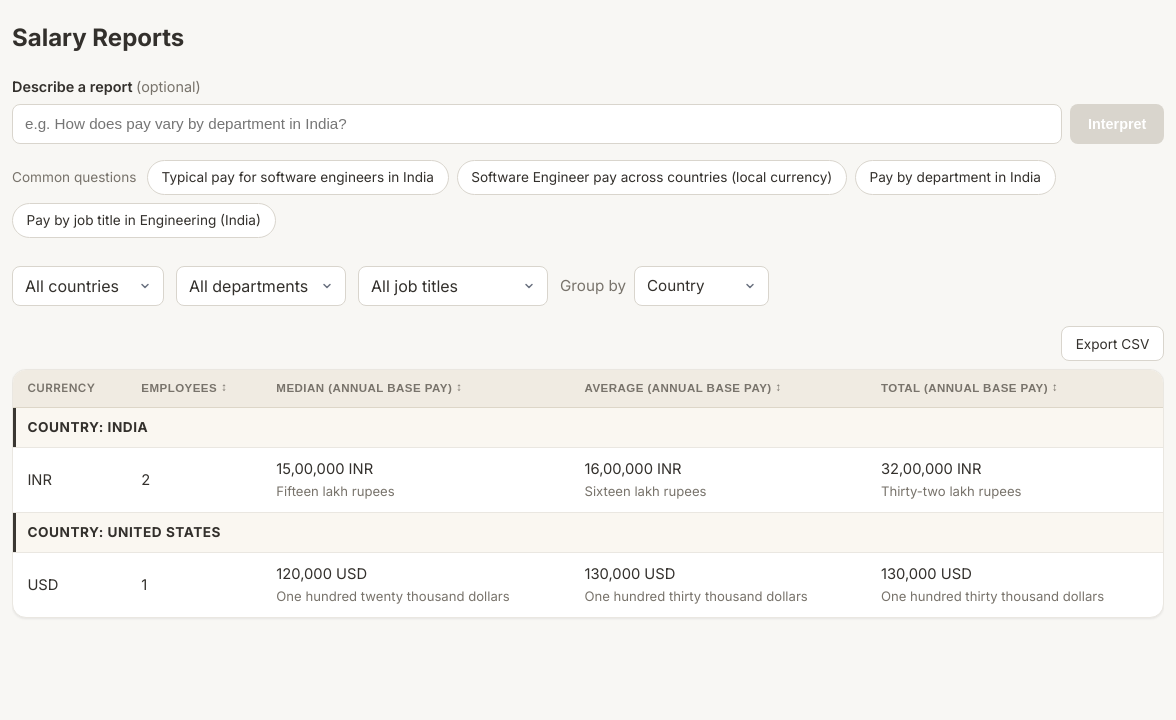
Test: ReportsPage › fills the filters when the India software-engineer preset is clicked
Click the button "Typical pay for software engineers in India" at point(298, 177), box [147,160,449,195]
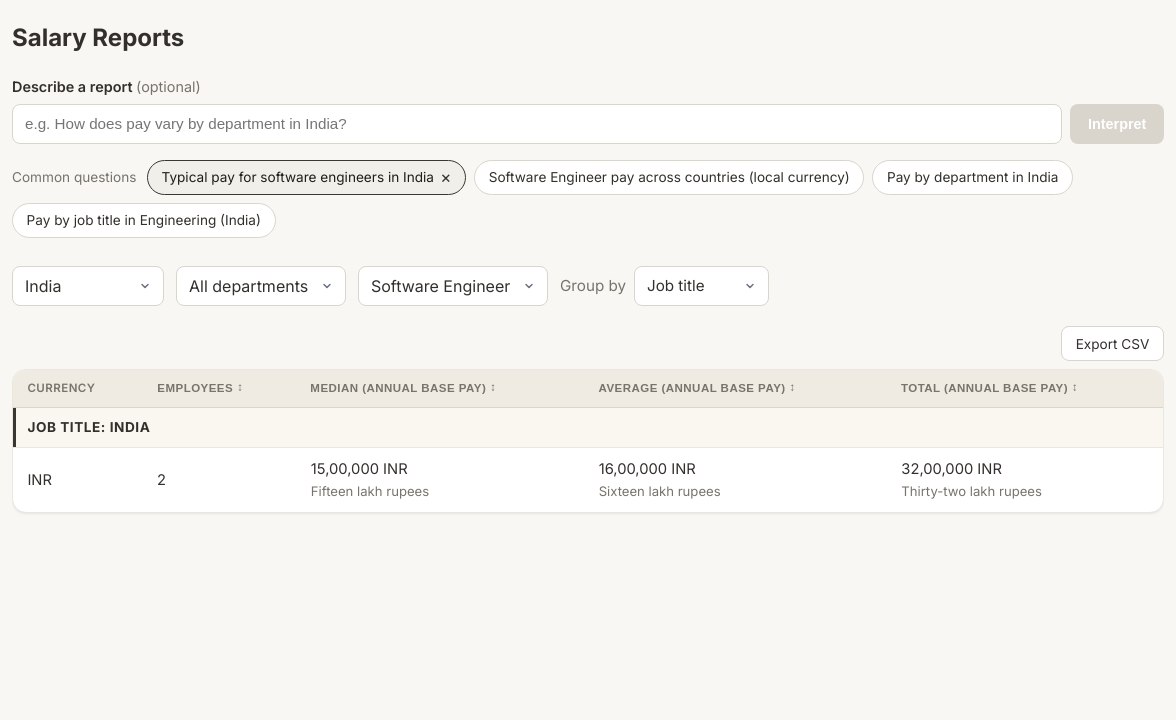
Check: the dropdown named "Country" shows "India", box [12,266,164,306]
Check: the dropdown named "Job title" shows "Software Engineer", box [358,266,548,306]
